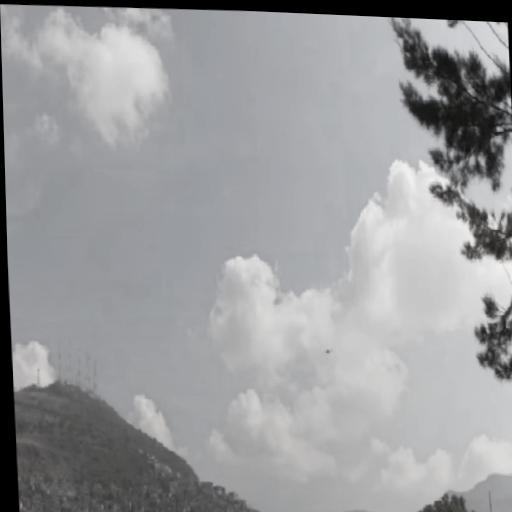drones: (322, 343, 334, 370)
